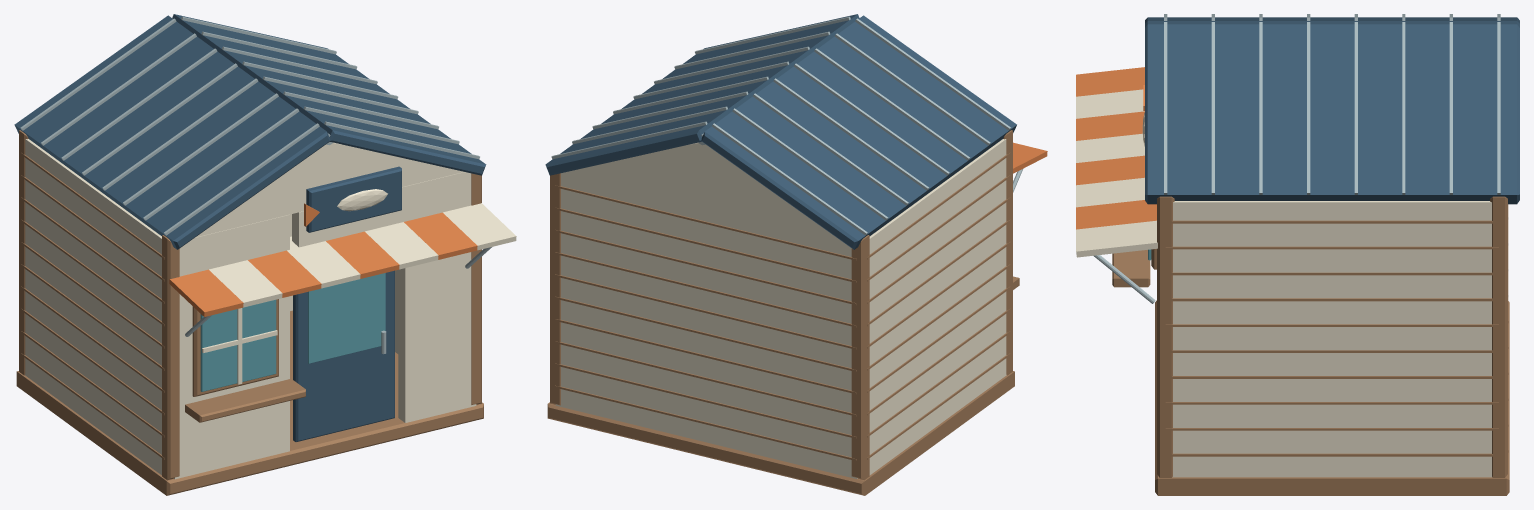
File: harbor-and-tackle-tackle-shop-75727ace__19550.glb
3 views of the same model, side by side, from view 1: azimuth 30°, elevation 25°; view 2: azimuth 150°, elevation 25°; view 3: azimuth 270°, elevation 25° (orthographic). The views are drawn at different scales.
Parts seen in each view (by area): view 1: ivory, navy, cedar, metal, glass, orange; view 2: ivory, navy, cedar, metal, orange; view 3: ivory, navy, cedar, orange, metal.
Part boxes in pixels (box(x1,y1,x2,y2)): ivory: box(25, 139, 516, 479); navy: box(14, 14, 486, 441); cedar: box(16, 130, 483, 495); metal: box(20, 16, 491, 354); glass: box(200, 273, 385, 391); orange: box(169, 203, 477, 316); ivory: box(555, 139, 1006, 478); navy: box(545, 14, 1016, 249); cedar: box(547, 130, 1019, 495); metal: box(551, 16, 1022, 235); orange: box(1013, 142, 1047, 173); ivory: box(1076, 89, 1491, 477); navy: box(1145, 17, 1519, 204); cedar: box(1112, 196, 1509, 495); orange: box(1076, 67, 1156, 229); metal: box(1093, 14, 1500, 303).
Bounding box in the file's own units: 3.58 × 3.58 × 3.73.
